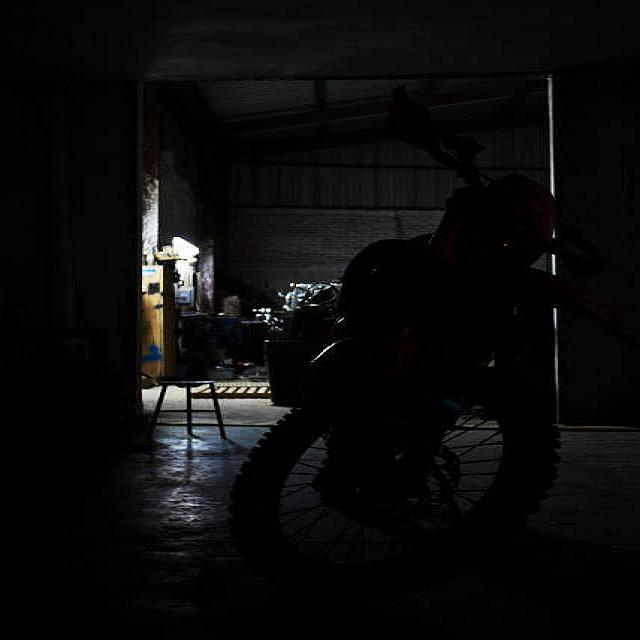Motorbike: (241, 129, 640, 602)
chair: (151, 362, 237, 445)
